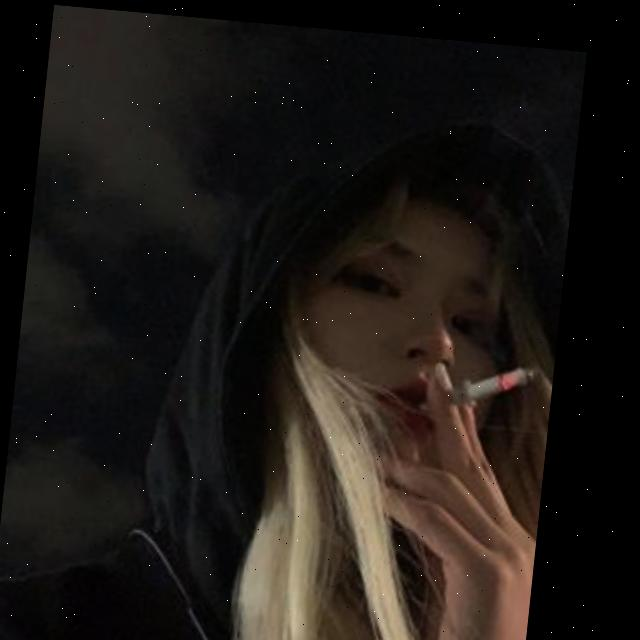cigarette: (456, 352, 548, 404)
